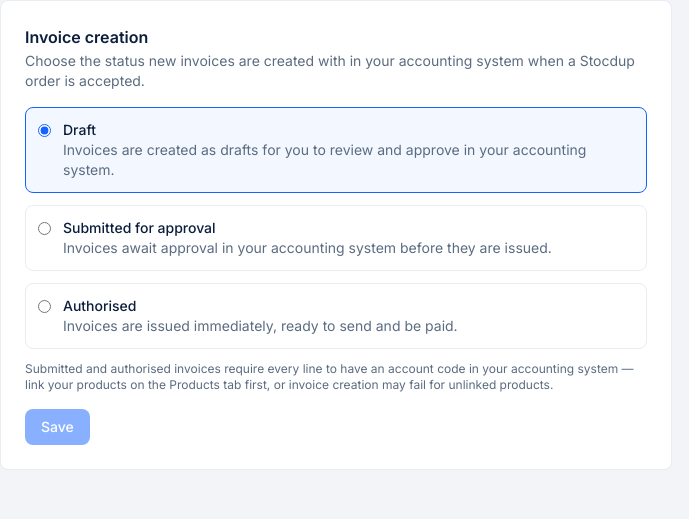
AccountingSettingsTab › shows an error message when saving fails
The width and height of the screenshot is (689, 519).
What coordinates should you click on to do the following:
click the radio button labelled "Submitted"
I would click on:
 (44, 228)
Its box is top-left (38, 222), bottom-right (51, 235).
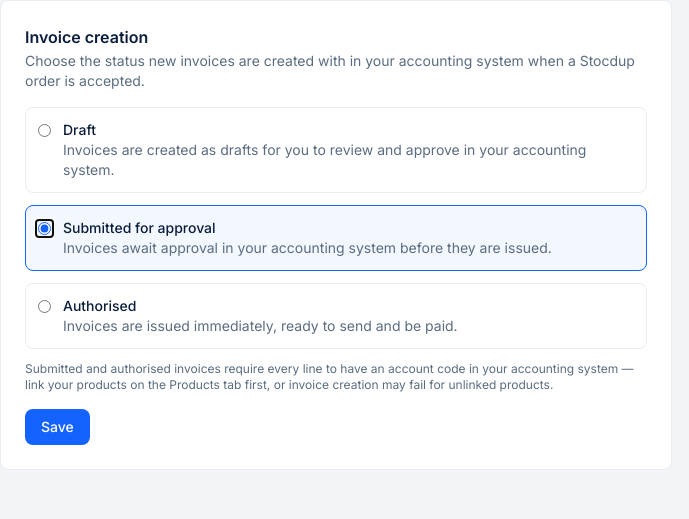
What coordinates should you click on to do the following:
click the button "Save"
I would click on:
 (57, 427)
Its box is top-left (25, 409), bottom-right (90, 445).
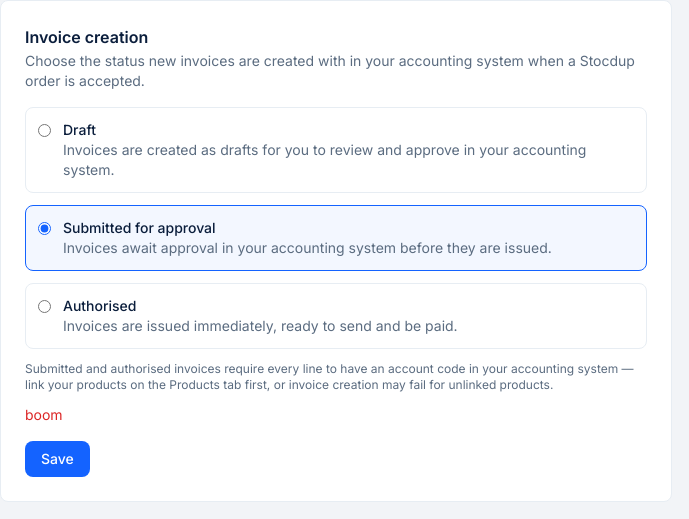
Expected: the text "boom" is shown, top-left (25, 406), bottom-right (63, 423)
